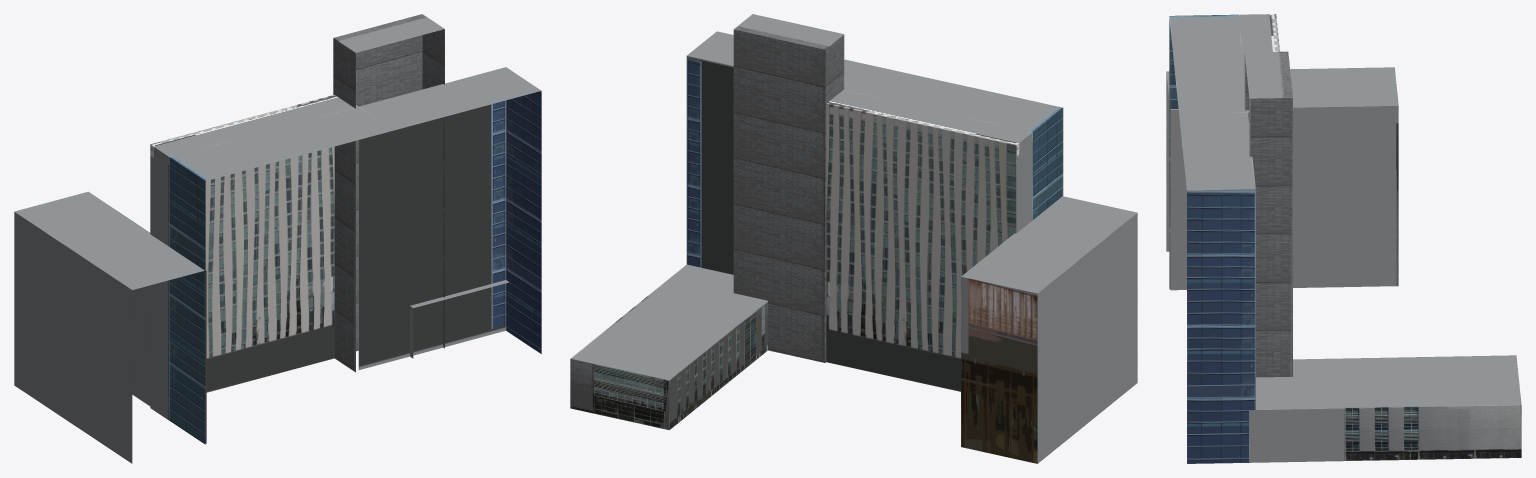
The model's file is Orchard_Commons.obj.
3 renders of one model, left to right at view 1: azimuth 30°, elevation 25°; view 2: azimuth 150°, elevation 25°; view 3: azimuth 270°, elevation 25°, orthographic. The views are drawn at different scales.
Parts seen in each view (by area): view 1: Orchard_Commons_3_Mesh.001, Orchard_Commons_1_Mesh.001, Orchard_Commons_2_Mesh.001, Orchard_Commons_4_Mesh.001; view 2: Orchard_Commons_3_Mesh.001, Orchard_Commons_1_Mesh.001, Orchard_Commons_2_Mesh.001, Orchard_Commons_4_Mesh.001; view 3: Orchard_Commons_3_Mesh.001, Orchard_Commons_4_Mesh.001, Orchard_Commons_1_Mesh.001, Orchard_Commons_2_Mesh.001.
Boxes of the visible parts, <box> form: Orchard_Commons_3_Mesh.001: <box>150,67,541,444</box>; Orchard_Commons_1_Mesh.001: <box>14,191,206,463</box>; Orchard_Commons_2_Mesh.001: <box>333,14,444,372</box>; Orchard_Commons_4_Mesh.001: <box>410,280,509,358</box>; Orchard_Commons_3_Mesh.001: <box>686,31,1063,391</box>; Orchard_Commons_1_Mesh.001: <box>961,196,1137,463</box>; Orchard_Commons_2_Mesh.001: <box>733,14,844,362</box>; Orchard_Commons_4_Mesh.001: <box>570,264,767,430</box>; Orchard_Commons_3_Mesh.001: <box>1169,14,1279,463</box>; Orchard_Commons_4_Mesh.001: <box>1249,355,1521,462</box>; Orchard_Commons_1_Mesh.001: <box>1166,67,1398,290</box>; Orchard_Commons_2_Mesh.001: <box>1244,51,1292,377</box>.
Bounding box in the file's own units: 0.0803 × 0.0574 × 0.0557.
